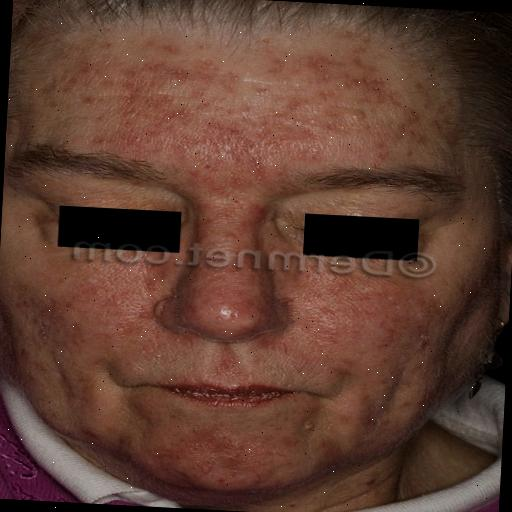Skin_Lesion: (100, 64, 378, 165), (143, 432, 283, 486), (196, 168, 274, 261), (298, 290, 336, 340), (96, 266, 130, 315), (28, 210, 56, 248), (360, 396, 386, 432), (412, 320, 436, 354), (140, 264, 166, 290)
